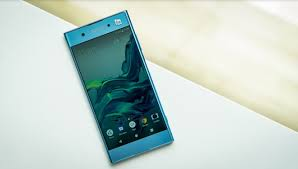sony: (59, 6, 178, 169)
